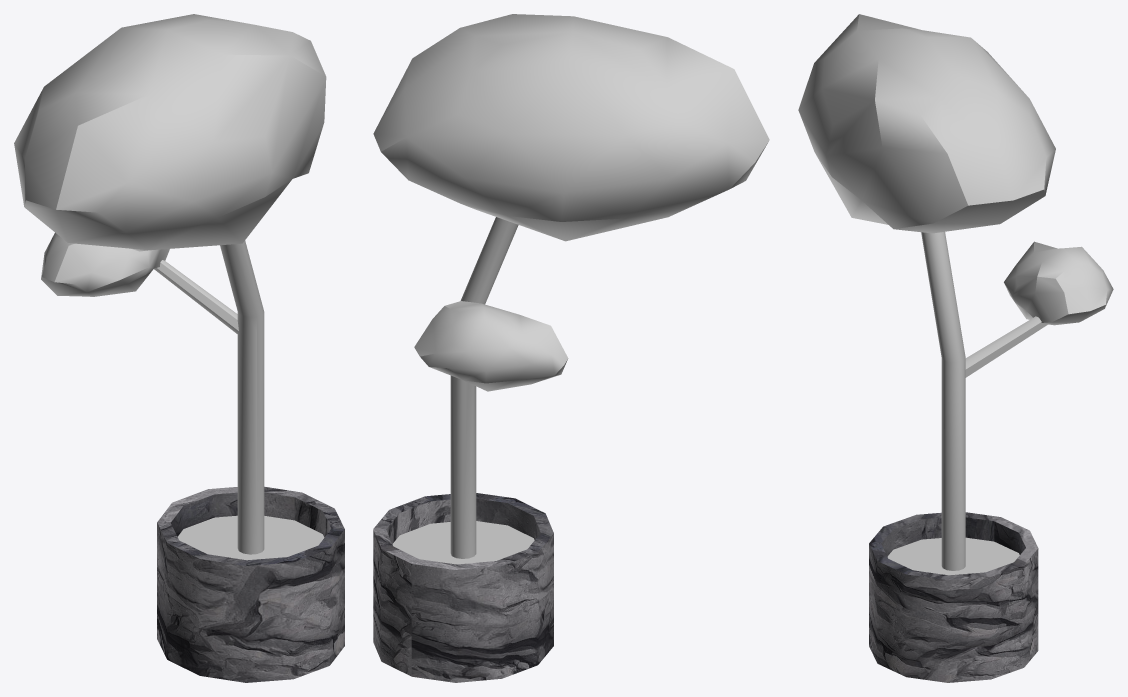
Rendered from Planta1.obj.
The picture shows the model from 3 angles, left to right: view 1: azimuth 30°, elevation 25°; view 2: azimuth 150°, elevation 25°; view 3: azimuth 270°, elevation 25°; orthographic projection. The views are drawn at different scales.
Parts seen in each view (by area): view 1: Planta1:Mesh; view 2: Planta1:Mesh; view 3: Planta1:Mesh.
Boxes of the visible parts, <box> form: Planta1:Mesh: <box>14,14,344,682</box>; Planta1:Mesh: <box>373,14,769,682</box>; Planta1:Mesh: <box>798,14,1113,682</box>.
Size of the model in its own units: 0.7061 by 1.27 by 0.6381.
